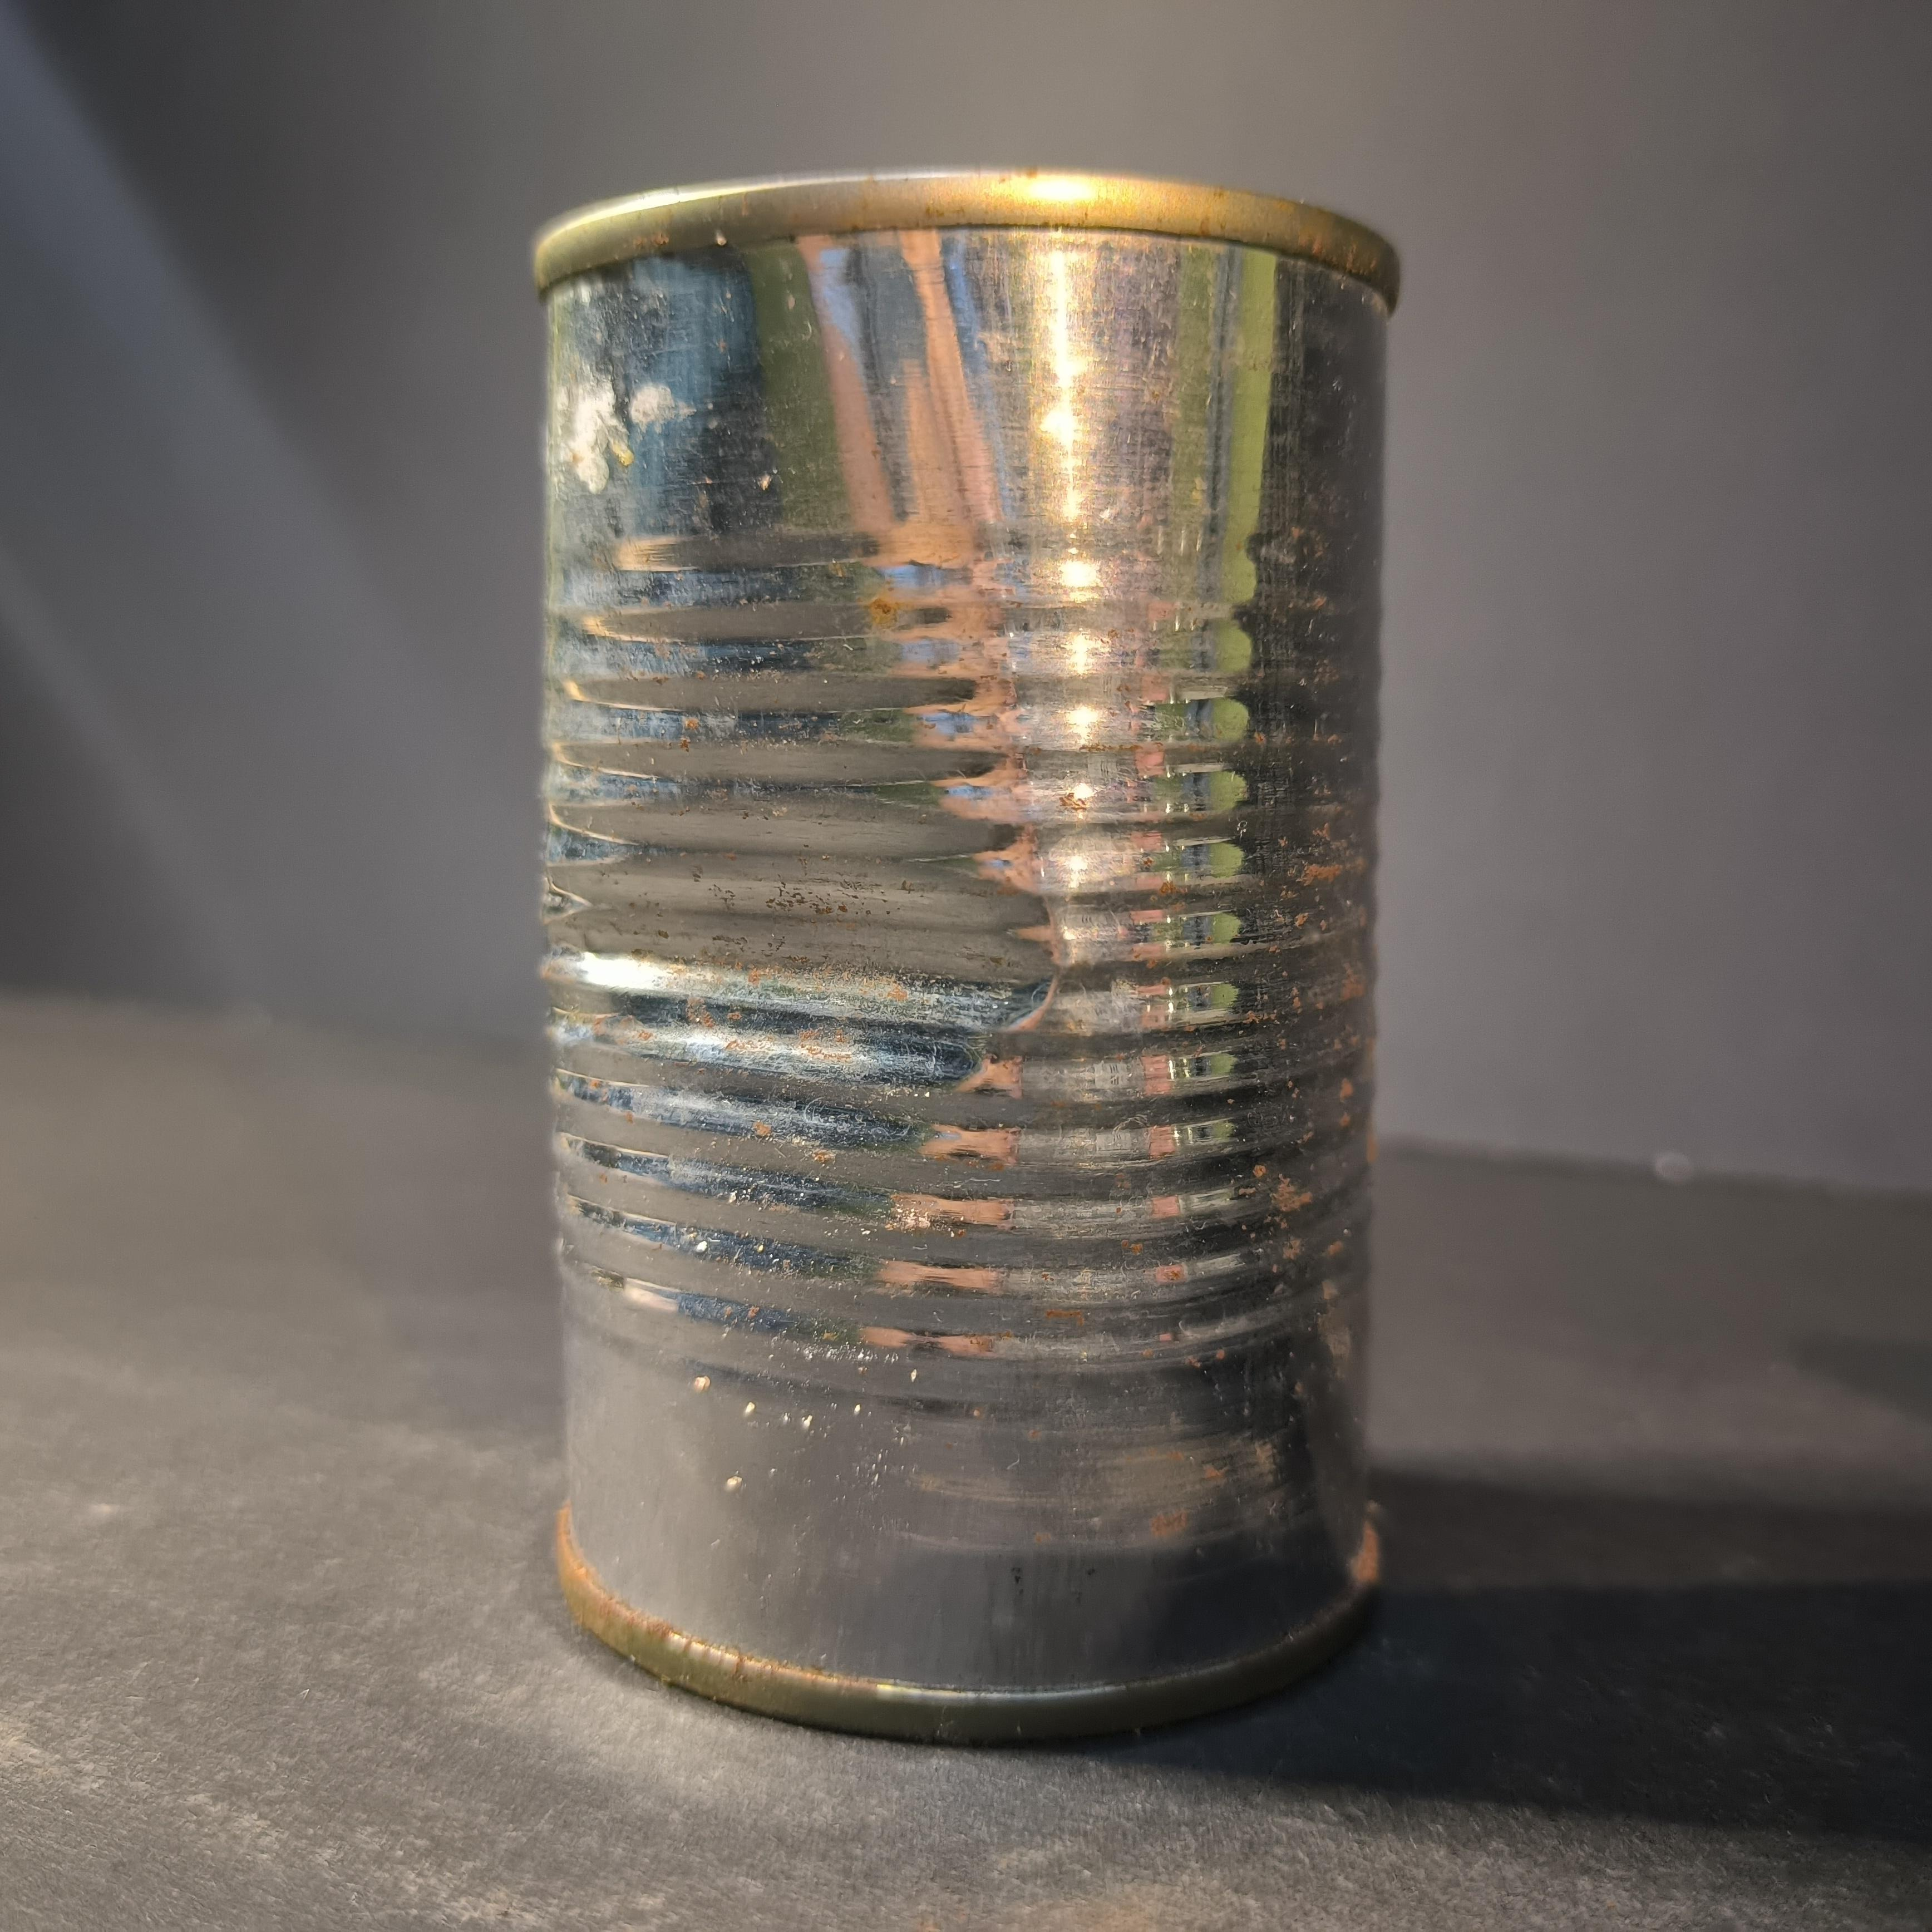Dented: (495, 156, 1419, 1736)
